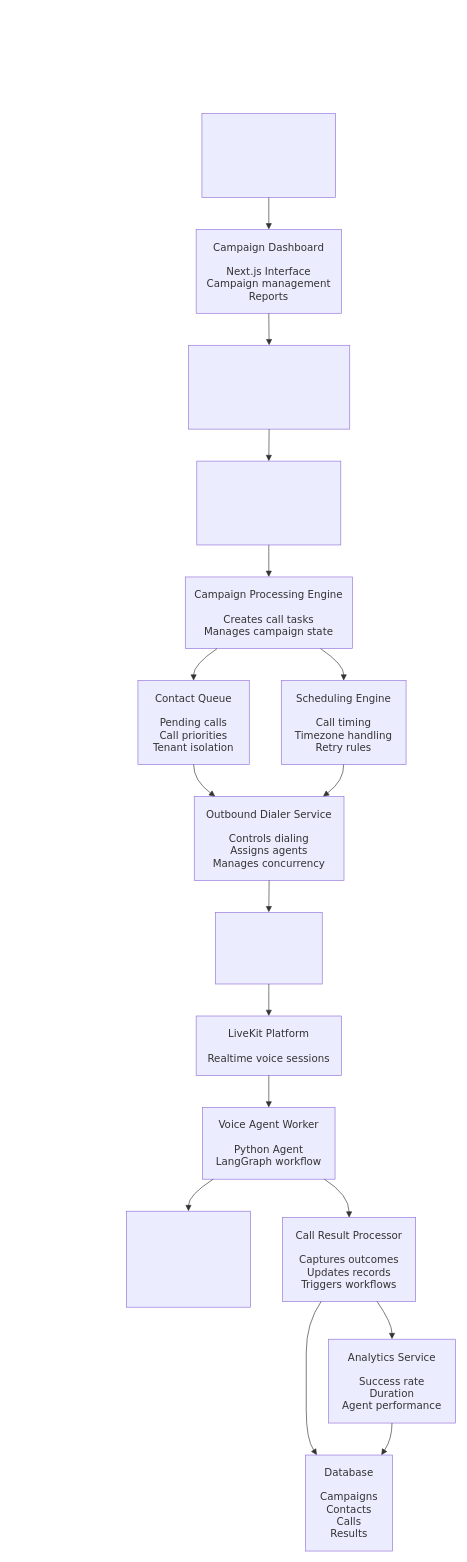
Image size: 467x1562. Some labels were removed from this diagram. Each missing label, with the box of its shape:
Business User Creates campaigns Uploads contact lists Views results: (201, 113, 336, 197)
Campaign Management API FastAPI Campaign CRUD Configuration: (188, 345, 350, 429)
Contact Import Service CSV / Excel upload Validation Data cleaning: (196, 460, 341, 545)
Tools & Knowledge RAG CRM Calendar APIs: (126, 1211, 251, 1307)
Twilio SIP Phone network Outbound calls: (215, 912, 322, 984)
